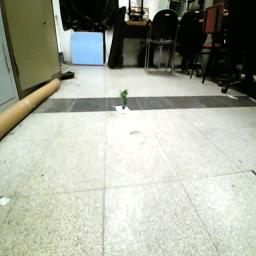herb: (121, 90, 130, 113)
